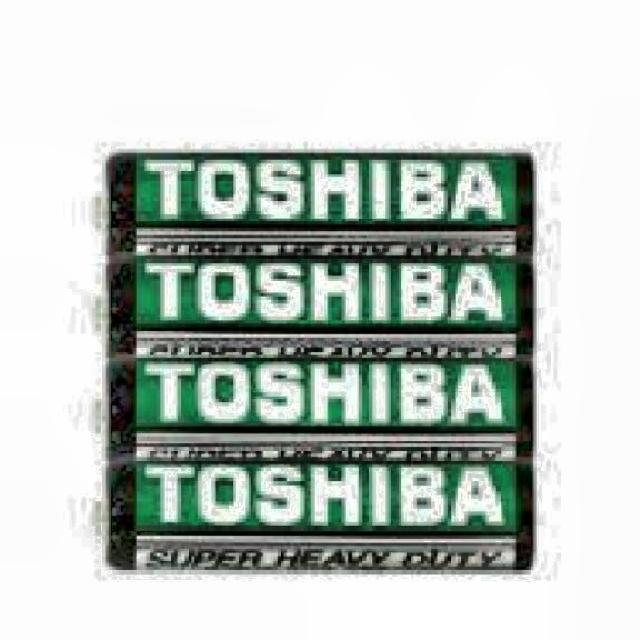battery: (92, 462, 536, 575), (93, 149, 540, 260), (92, 259, 537, 360)
